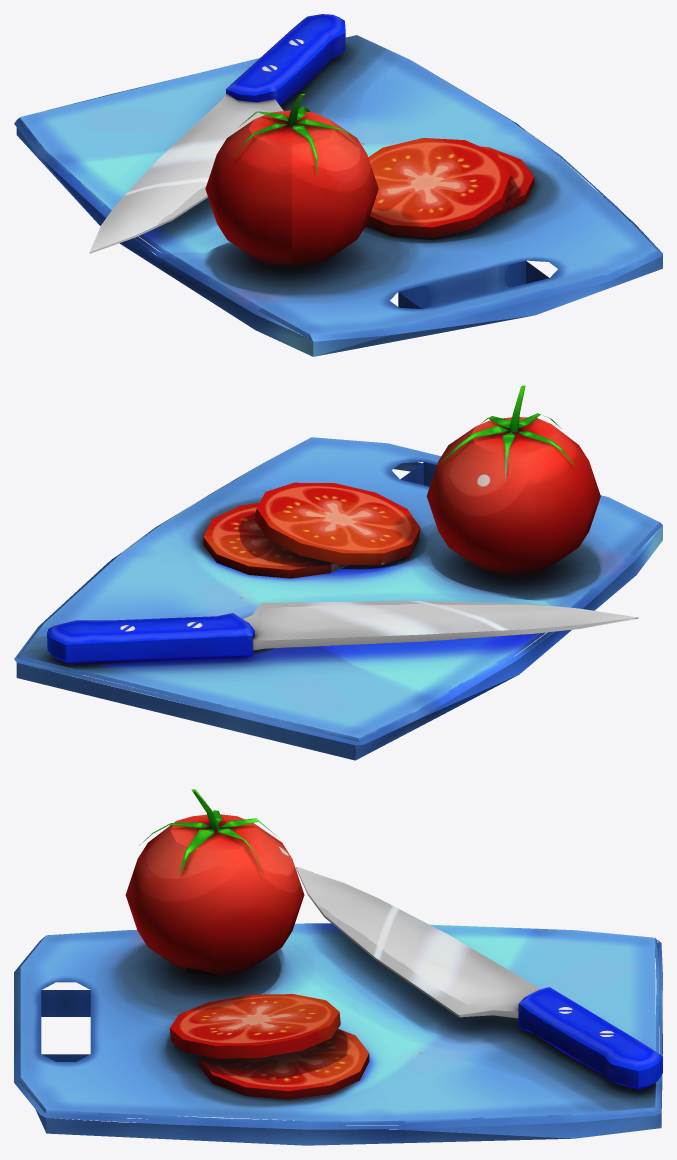
The model's file is FOD0110026.fbx.
3 renders of one model, top to bottom at view 1: azimuth 30°, elevation 25°; view 2: azimuth 150°, elevation 25°; view 3: azimuth 270°, elevation 25°, orthographic. The views are drawn at different scales.
Visible parts, largest first — view 1: smFOD0110026; view 2: smFOD0110026; view 3: smFOD0110026.
Boxes of the visible parts, <box> form: smFOD0110026: <box>14,14,662,356</box>; smFOD0110026: <box>14,385,662,760</box>; smFOD0110026: <box>14,789,662,1145</box>.
Size of the model in its own units: 34.42 by 13.67 by 39.43.
1 material, 1 textured.
